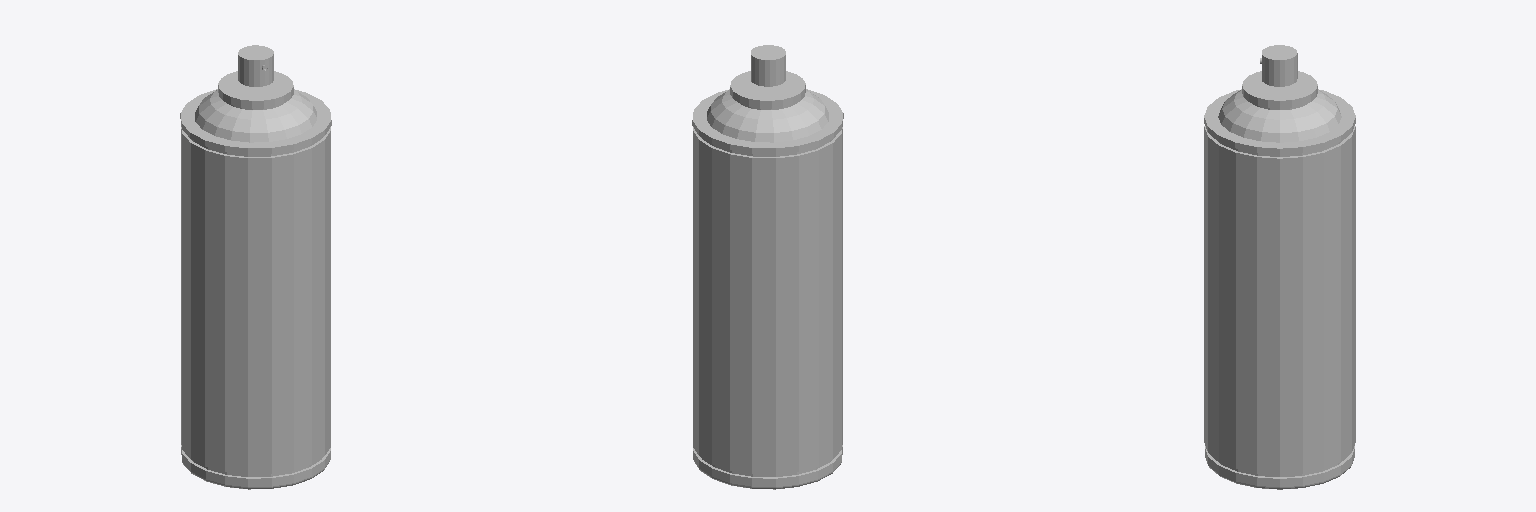
The model's file is LATA DE PINTURA.obj.
The picture shows the model from 3 angles: view 1: azimuth 30°, elevation 25°; view 2: azimuth 150°, elevation 25°; view 3: azimuth 270°, elevation 25°; orthographic projection.
Parts seen in each view (by area): view 1: pCylinder1, pCylinder2; view 2: pCylinder1, pCylinder2; view 3: pCylinder1, pCylinder2.
Part boxes in pixels (x1,y1,x2,y2): pCylinder1: (180,71,331,489); pCylinder2: (238,45,273,86); pCylinder1: (692,71,843,489); pCylinder2: (751,45,785,86); pCylinder1: (1204,71,1355,489); pCylinder2: (1262,45,1297,86).
Size of the model in its own units: 2.9 by 8.56 by 2.9.